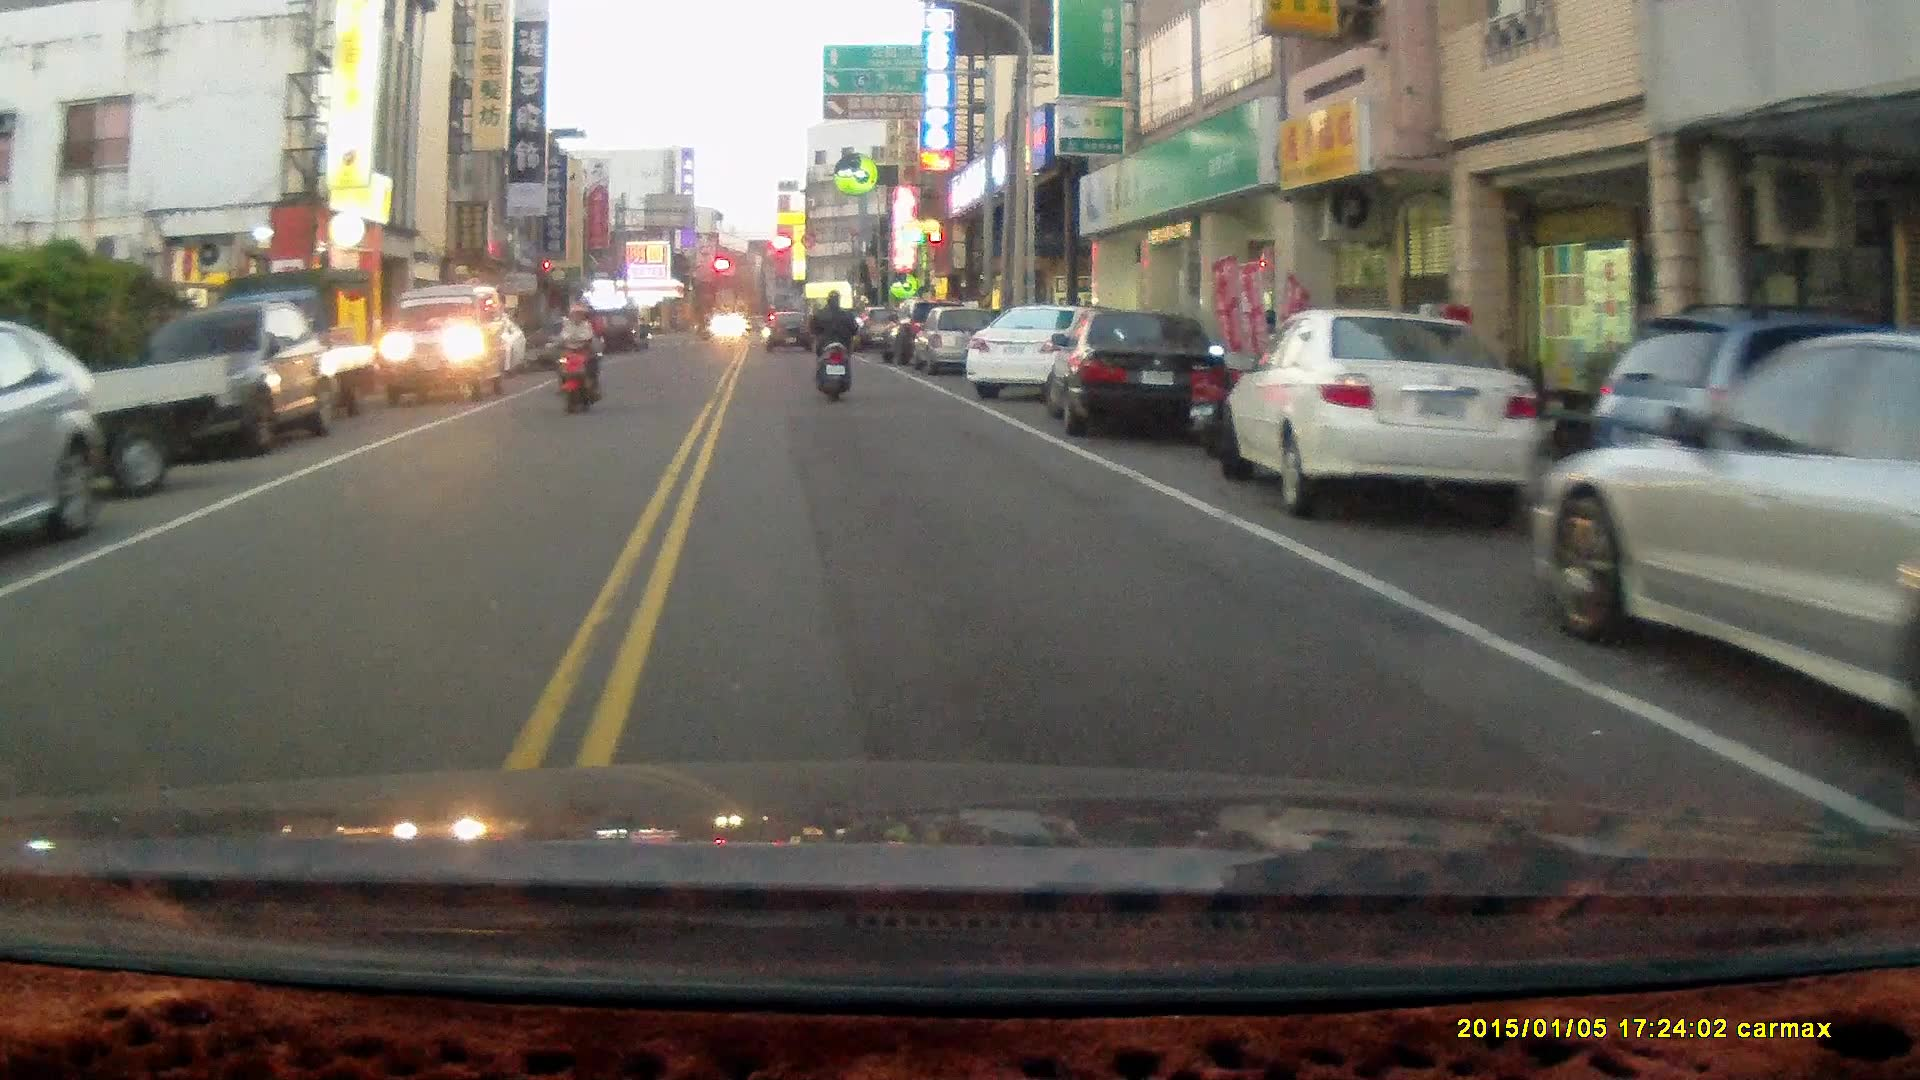rider: (558, 291, 606, 413), (809, 286, 855, 404)
vehicle: (1527, 328, 1920, 769), (1221, 304, 1540, 517), (133, 292, 337, 456), (1, 312, 104, 565), (1045, 304, 1229, 439), (965, 301, 1144, 403), (384, 282, 519, 407), (909, 301, 1014, 379)
